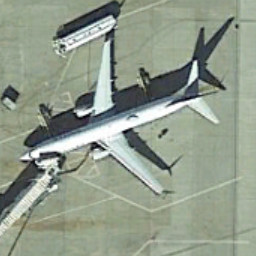Airplane: (13, 31, 235, 208)
